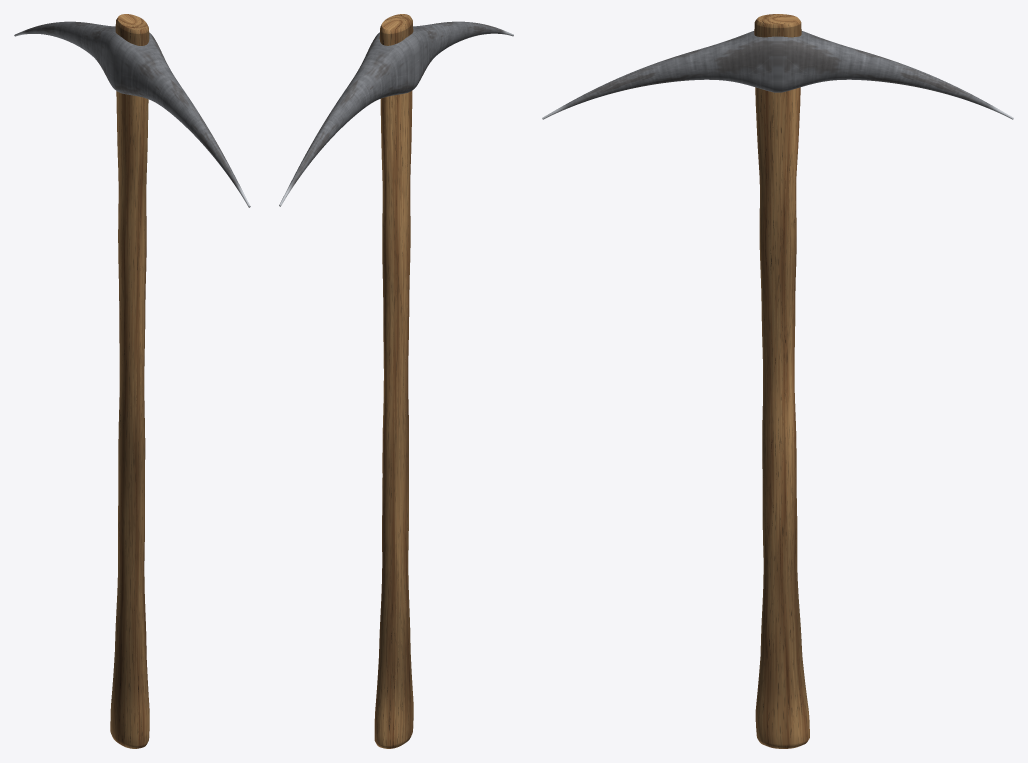
File: Pickaxe.obj
3 views of the same model, side by side, from view 1: azimuth 30°, elevation 25°; view 2: azimuth 150°, elevation 25°; view 3: azimuth 270°, elevation 25° (orthographic).
Parts seen in each view (by area): view 1: Pickaxe; view 2: Pickaxe; view 3: Pickaxe.
Part boxes in pixels (x1,y1,x2,y2): Pickaxe: (14, 14, 250, 748); Pickaxe: (279, 14, 513, 748); Pickaxe: (542, 14, 1013, 748).
Size of the model in its own units: 0.0564 by 0.9209 by 0.5413.
2 materials, 2 textured.
